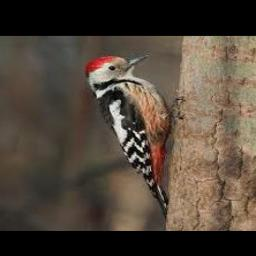Woodpecker: (85, 55, 185, 219)
